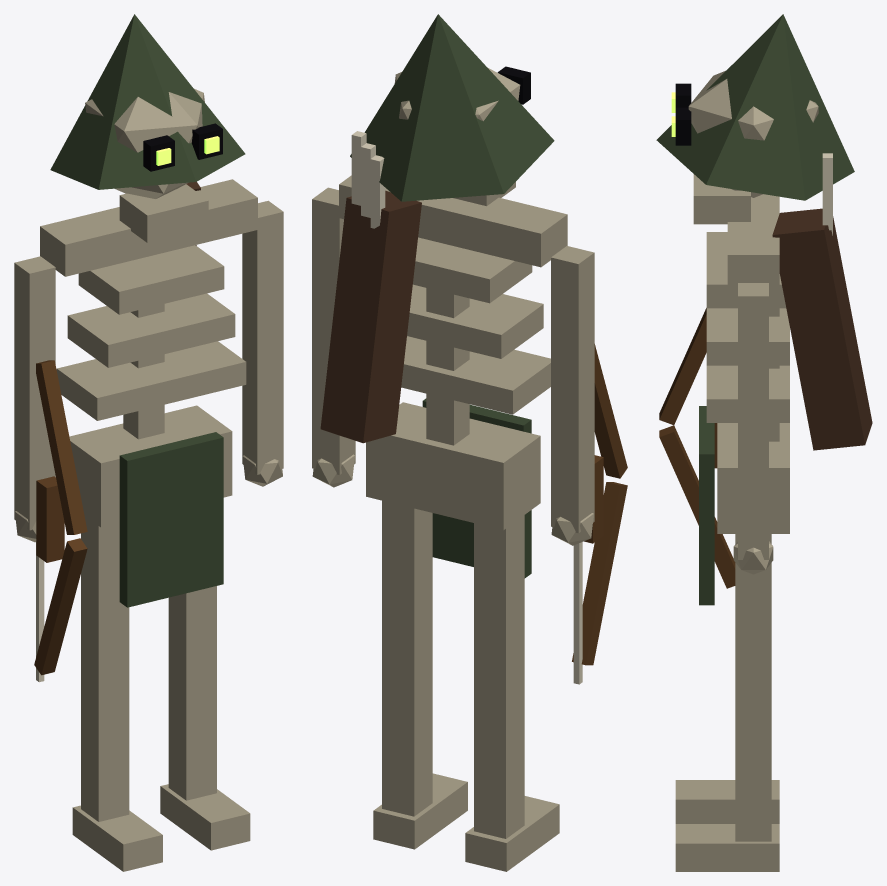
File: archer.glb
3 renders of one model, left to right at view 1: azimuth 30°, elevation 25°; view 2: azimuth 150°, elevation 25°; view 3: azimuth 270°, elevation 25°, orthographic. The views are drawn at different scales.
Parts seen in each view (by area): view 1: loin, legL_m, hood, armR_m, legR_m, armL_m, rib0, shoulders, rib1, pelvis, rib2, skull (+11 smaller); view 2: hood, quiver, legL_m, legR_m, pelvis, armL_m, shoulders, rib0, armR_m, rib1, rib2, spine (+14 smaller); view 3: hood, quiver, legR_m, armR_m, pelvis, legR_f, shoulders, legL_f, loin, rib0, rib1, skull (+7 smaller).
Boxes of the visible parts, x1=… form: loin: x1=119, y1=432, x2=223, y2=607; legL_m: x1=81, y1=516, x2=129, y2=821; hood: x1=50, y1=14, x2=245, y2=189; armR_m: x1=242, y1=200, x2=283, y2=474; legR_m: x1=168, y1=586, x2=216, y2=800; armL_m: x1=14, y1=256, x2=55, y2=530; rib0: x1=56, y1=341, x2=246, y2=420; shoulders: x1=40, y1=179, x2=257, y2=276; rib1: x1=67, y1=293, x2=235, y2=367; pelvis: x1=69, y1=405, x2=232, y2=527; rib2: x1=78, y1=245, x2=224, y2=314; skull: x1=85, y1=88, x2=204, y2=198; hood: x1=350, y1=14, x2=554, y2=201; quiver: x1=320, y1=190, x2=421, y2=443; legL_m: x1=474, y1=515, x2=524, y2=838; legR_m: x1=382, y1=500, x2=432, y2=816; pelvis: x1=366, y1=402, x2=540, y2=530; armL_m: x1=551, y1=246, x2=594, y2=533; shoulders: x1=339, y1=175, x2=567, y2=267; rib0: x1=401, y1=336, x2=550, y2=414; armR_m: x1=312, y1=187, x2=355, y2=474; rib1: x1=407, y1=284, x2=543, y2=358; rib2: x1=413, y1=237, x2=532, y2=303; spine: x1=426, y1=288, x2=469, y2=445; hood: x1=656, y1=14, x2=854, y2=200; quiver: x1=772, y1=208, x2=872, y2=450; legR_m: x1=735, y1=534, x2=771, y2=841; armR_m: x1=738, y1=283, x2=768, y2=559; pelvis: x1=717, y1=423, x2=789, y2=533; legR_f: x1=675, y1=824, x2=779, y2=871; shoulders: x1=727, y1=194, x2=779, y2=287; legL_f: x1=675, y1=780, x2=779, y2=823; loin: x1=699, y1=406, x2=714, y2=605; rib0: x1=706, y1=365, x2=789, y2=422; rib1: x1=706, y1=308, x2=789, y2=365; skull: x1=688, y1=70, x2=818, y2=197.
Size of the model in its own units: 0.5885 by 1.72 by 0.4076.
